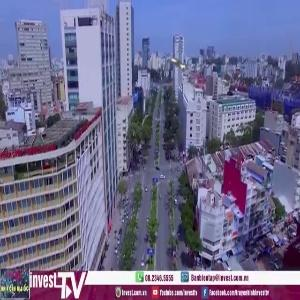drone: (152, 37, 205, 90)
